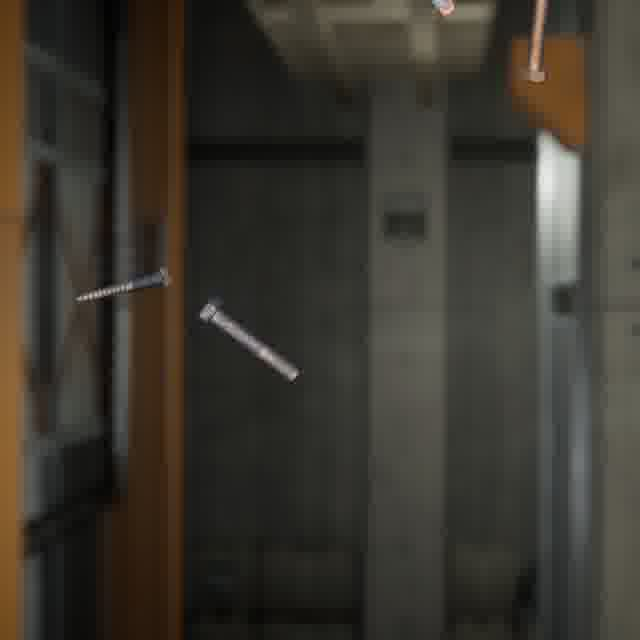bolt: (192, 291, 304, 386), (69, 262, 175, 307), (514, 0, 553, 87), (422, 0, 462, 26)
